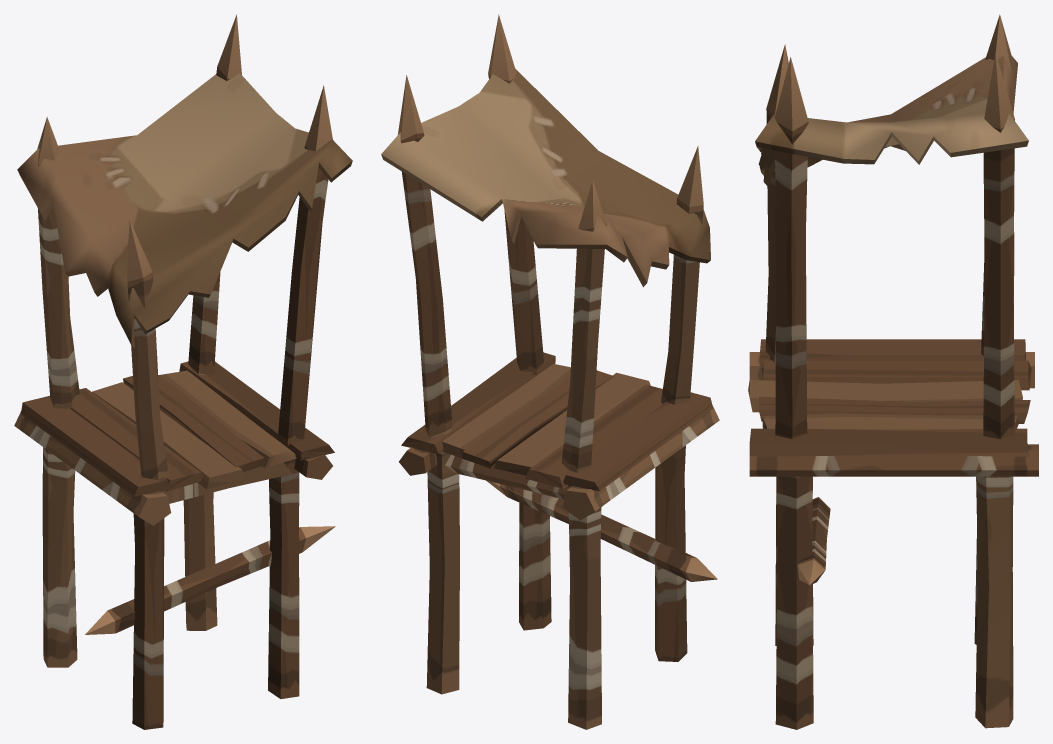
The model's file is bog_platform.gltf.
3 views of the same model, side by side, from view 1: azimuth 30°, elevation 25°; view 2: azimuth 150°, elevation 25°; view 3: azimuth 270°, elevation 25° (orthographic). The views are drawn at different scales.
Parts seen in each view (by area): view 1: bog_platform; view 2: bog_platform; view 3: bog_platform.
Part boxes in pixels (left/top/right/bottom): bog_platform: left=14, top=14, right=352, bottom=729; bog_platform: left=381, top=14, right=719, bottom=729; bog_platform: left=748, top=14, right=1038, bottom=729.
Size of the model in its own units: 3.44 by 7.95 by 3.03.
Materials: 1 (1 with a texture image).
